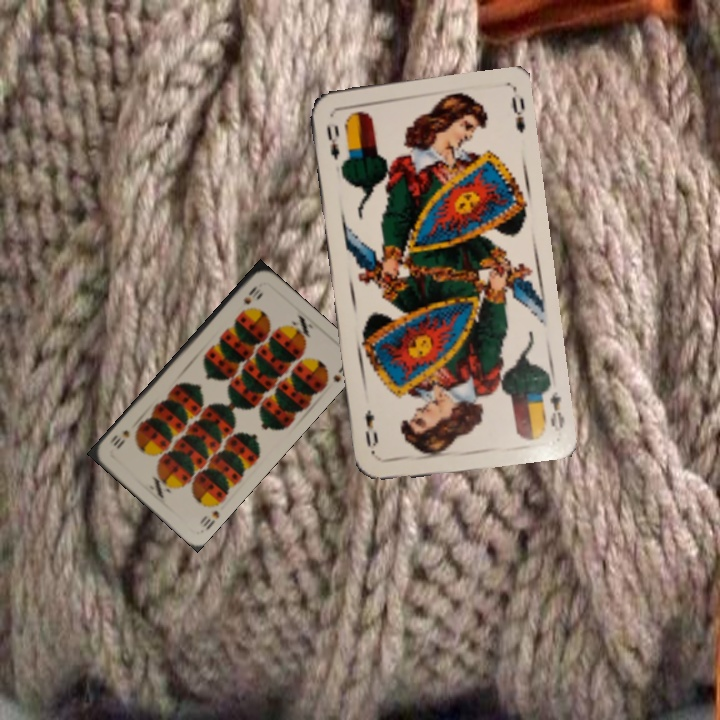EO: (545, 387, 567, 434), (322, 120, 342, 162)
S10: (195, 506, 222, 532), (239, 281, 263, 307)
